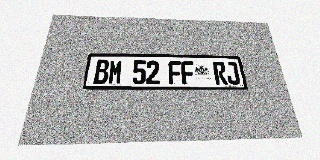2: (146, 60, 159, 84)
5: (132, 60, 146, 84)
B: (93, 60, 110, 84)
F: (181, 61, 195, 85), (168, 61, 182, 84)
J: (224, 62, 241, 85)
M: (108, 60, 123, 84)
R: (212, 61, 228, 85)
